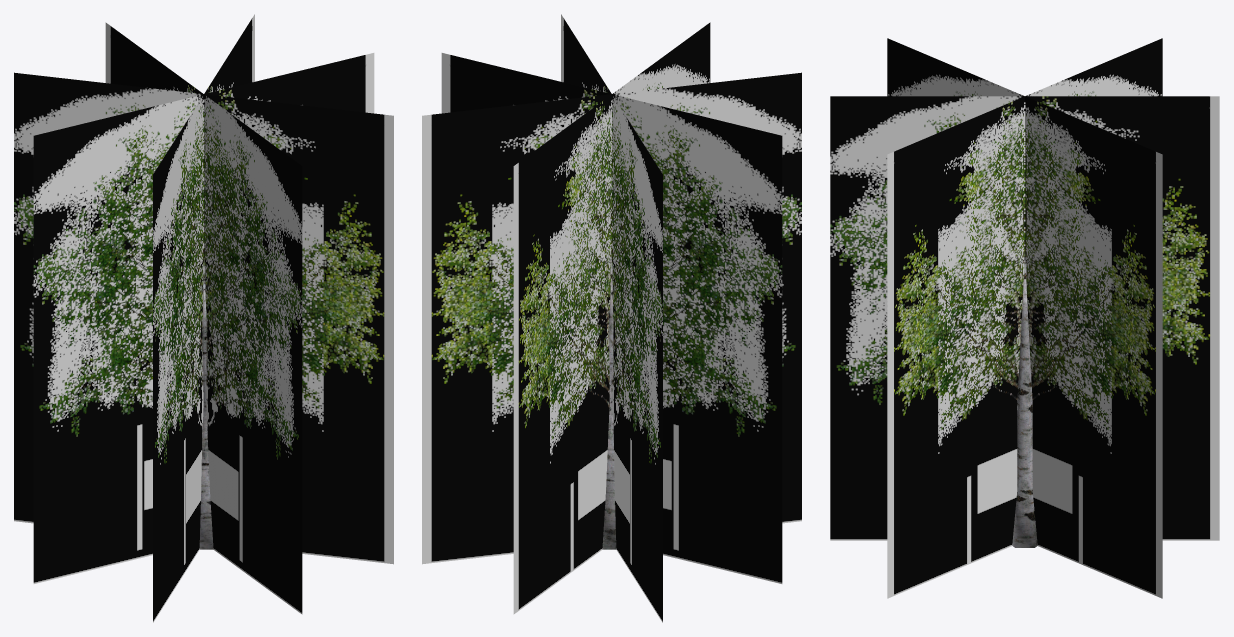
The model's file is BirchTree.fbx.
3 renders of one model, left to right at view 1: azimuth 30°, elevation 25°; view 2: azimuth 150°, elevation 25°; view 3: azimuth 270°, elevation 25°, orthographic.
Visible parts, largest first — view 1: birch-2; view 2: birch-2; view 3: birch-2.
Boxes of the visible parts, x1,y1,x2,y2 form: birch-2: (14,14,393,622); birch-2: (422,14,801,622); birch-2: (830,38,1219,598).
Size of the model in its own units: 1614 by 2032 by 1614.
